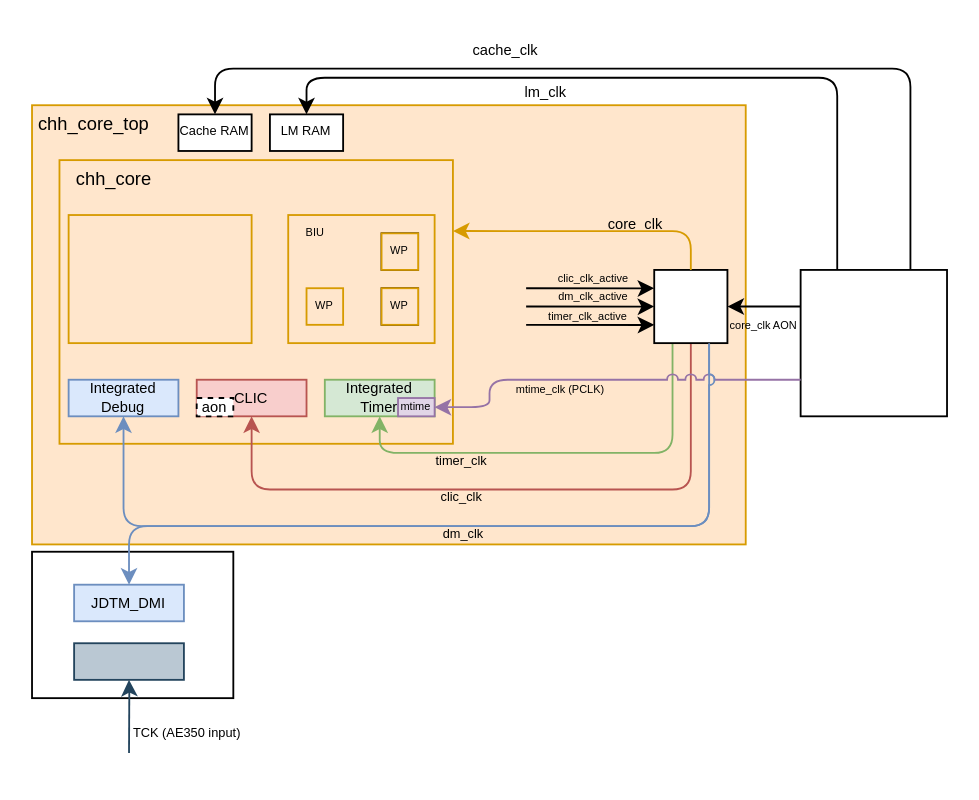
The diagram is 979 pixels wide and 800 high, and some of its shapes have lost their labels. Each missing label, with the centre of its shape:
clk_ctrl: [689,305]
clkgen: [873,342]
JDTM_TAP: [128,660]
ucore: [159,278]
